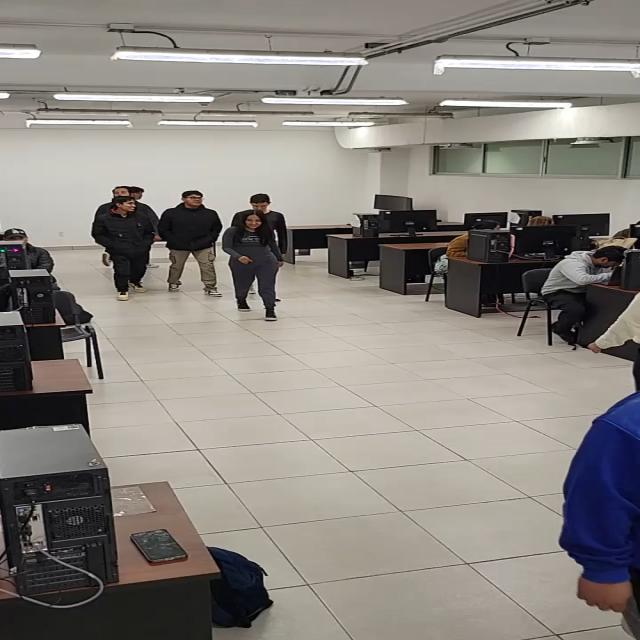Persona: (96, 196, 162, 303), (222, 212, 285, 322), (158, 190, 224, 295), (236, 186, 294, 217), (109, 182, 155, 200)
